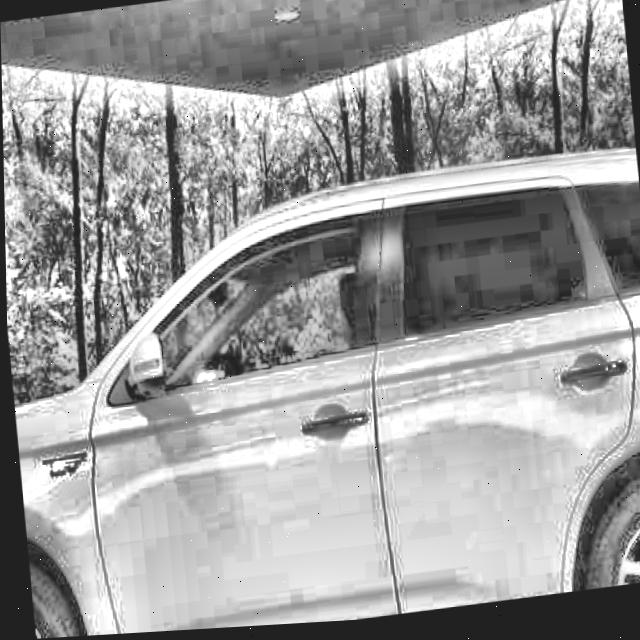light_vehicle: (3, 148, 640, 640)
